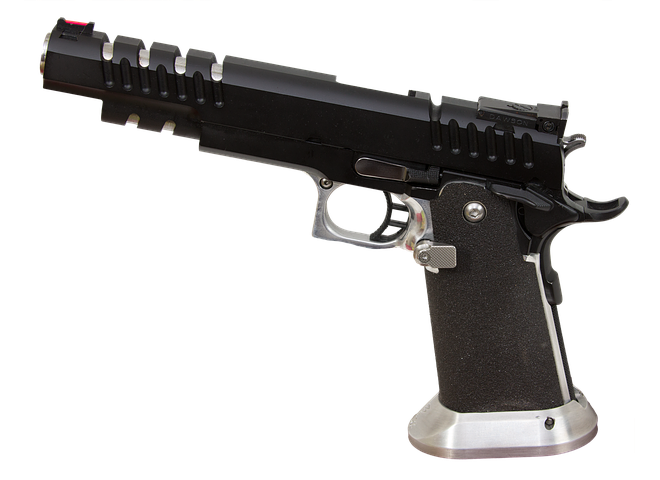gun: (34, 10, 632, 460)
